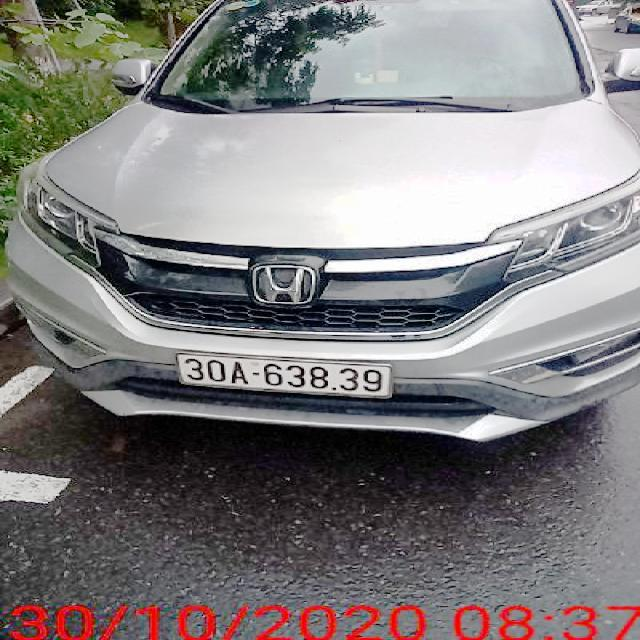license_plate: (178, 352, 393, 396)
